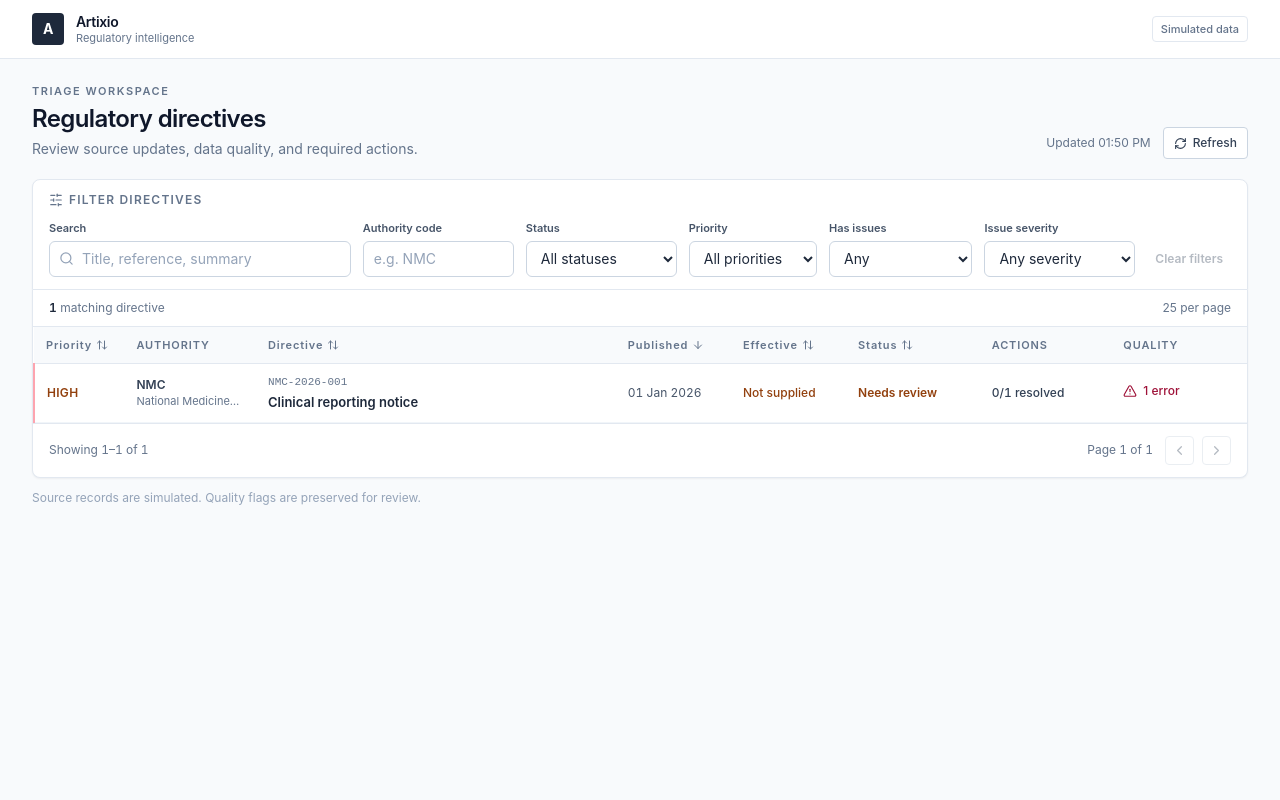
Scenario: triage page › opens detail with quality issues and preserves source data in the audit section
This screenshot has width=1280, height=800.
Click the button "Clinical reporting notice": {"x": 343, "y": 402} x1=268 y1=392 x2=418 y2=412
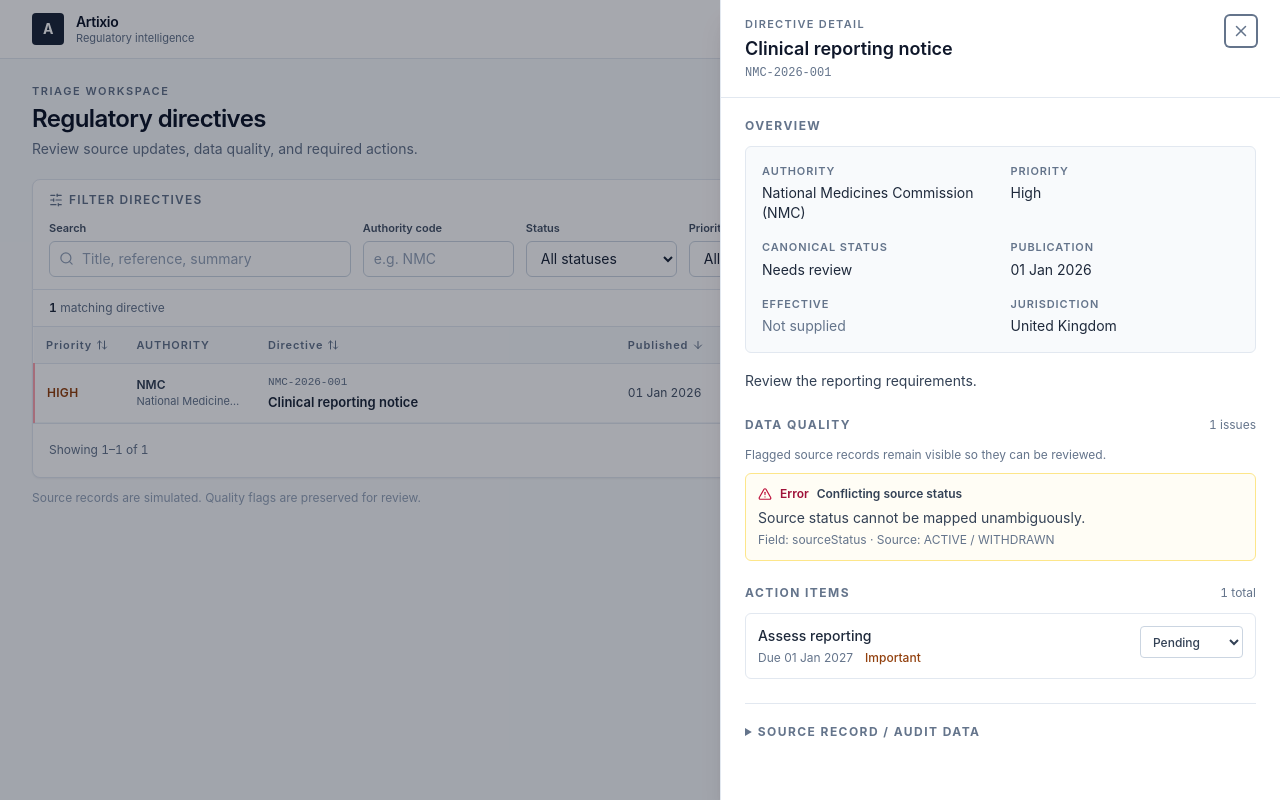
Check: the text "Source status cannot be mapped unambiguously." is shown, box x1=758 y1=509 x2=1085 y2=526
Check: the text "Assess reporting" is shown, box x1=758 y1=627 x2=872 y2=644
Click the heading "Source record / audit data": {"x": 869, "y": 732} x1=758 y1=724 x2=980 y2=739
(page scrolled)
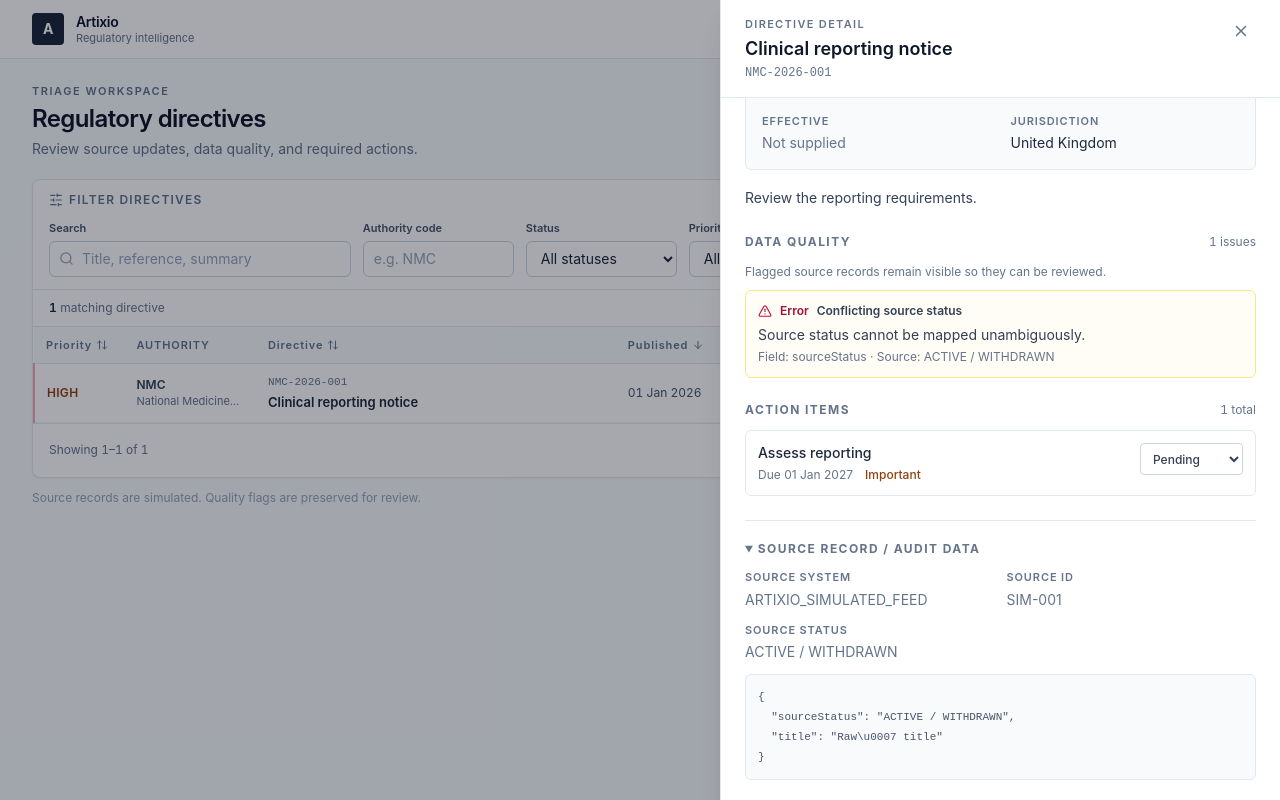
Check: the text "ACTIVE / WITHDRAWN" is shown, box x1=745 y1=643 x2=898 y2=660
